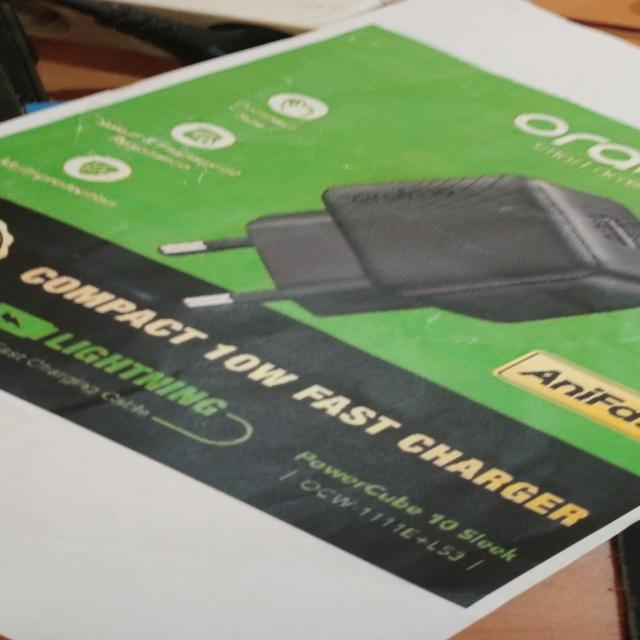PowerCube 10 Sleek OCW-1111ExL53: (243, 437, 562, 579)
